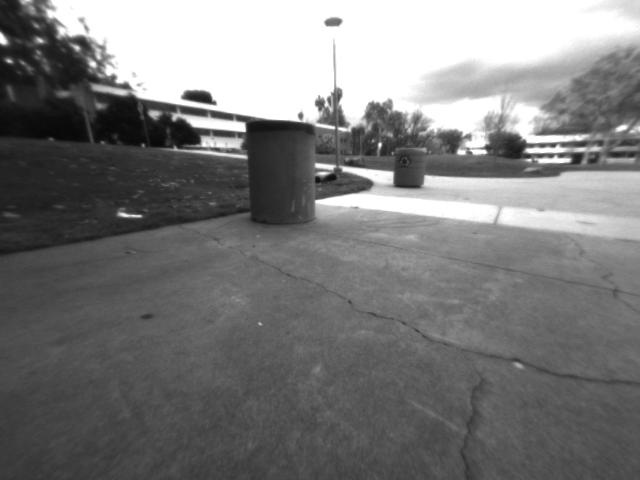trashcan: (240, 112, 325, 229), (389, 141, 430, 193)
